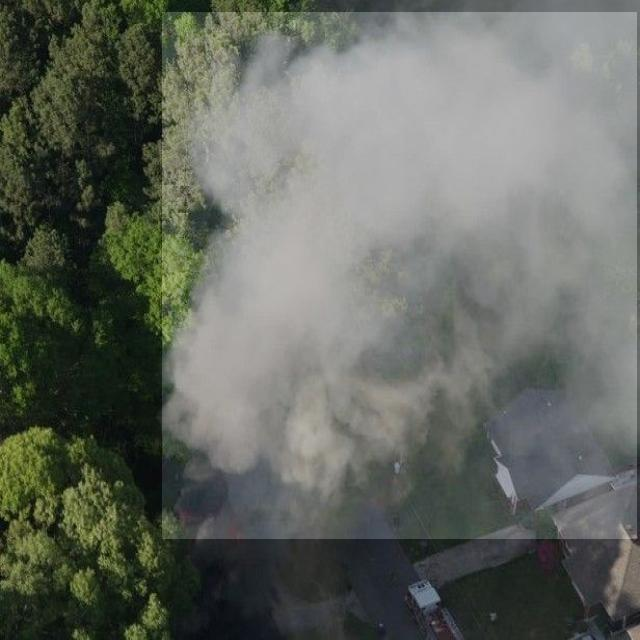Smoke: (162, 12, 637, 539)
